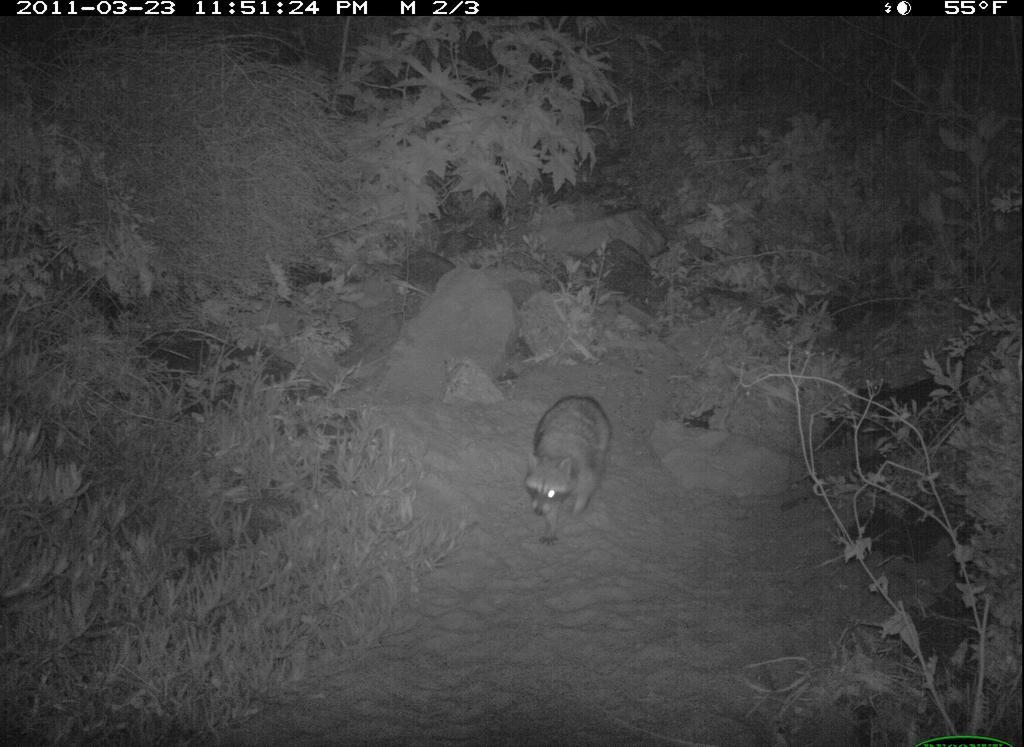raccoon: (511, 388, 624, 552)
